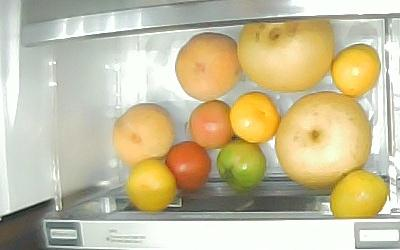peach: (174, 32, 242, 102), (112, 102, 173, 167)
pear: (274, 91, 371, 188), (237, 19, 334, 92)
tangerine: (330, 43, 381, 97), (330, 170, 387, 218), (126, 158, 176, 212), (230, 91, 280, 142)
tomato: (216, 138, 266, 193), (188, 99, 234, 149), (166, 141, 211, 192)
